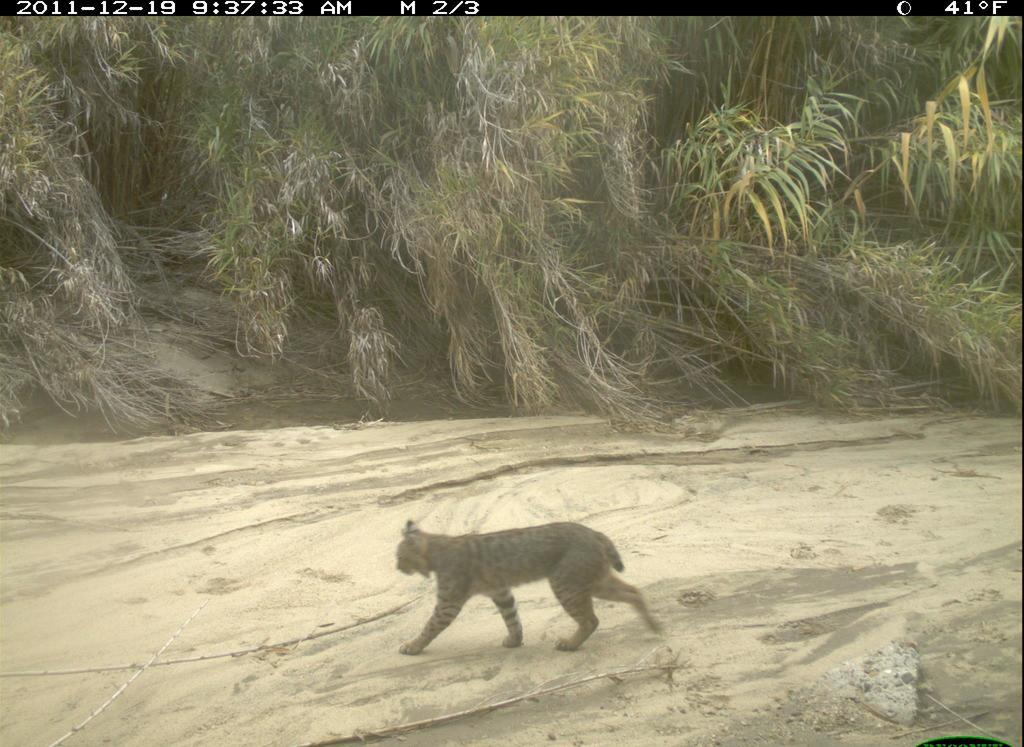bobcat: (390, 514, 669, 664)
